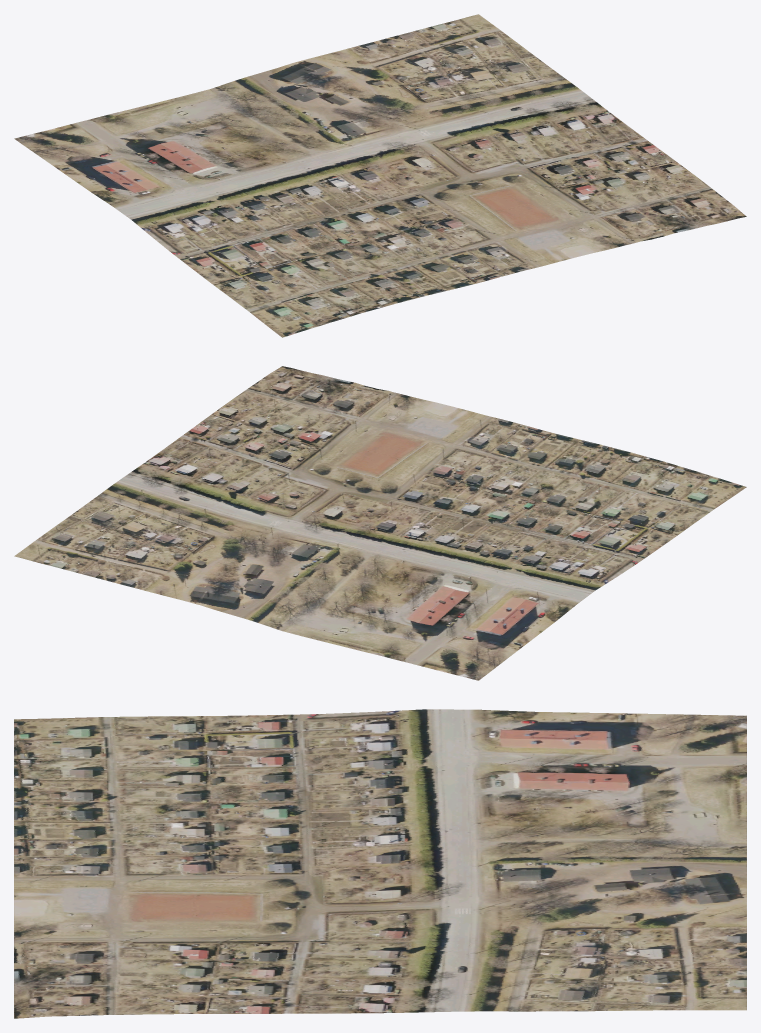
File: CM_Terrain_24489844_6818565.fbx
3 renders of one model, top to bottom at view 1: azimuth 30°, elevation 25°; view 2: azimuth 150°, elevation 25°; view 3: azimuth 270°, elevation 25°, orthographic. The views are drawn at different scales.
Visible parts, largest first — view 1: CM_Terrain_24489844_6818565_LOD0; view 2: CM_Terrain_24489844_6818565_LOD0; view 3: CM_Terrain_24489844_6818565_LOD0.
Boxes of the visible parts, <box> form: CM_Terrain_24489844_6818565_LOD0: <box>14,14,746,337</box>; CM_Terrain_24489844_6818565_LOD0: <box>14,366,746,680</box>; CM_Terrain_24489844_6818565_LOD0: <box>14,709,746,1018</box>.
Size of what is drawn, in the model's own units: 205 by 5.8 by 205.
